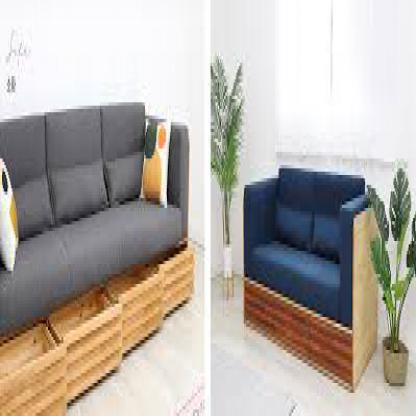sofa: (245, 158, 380, 400), (0, 112, 193, 264)
